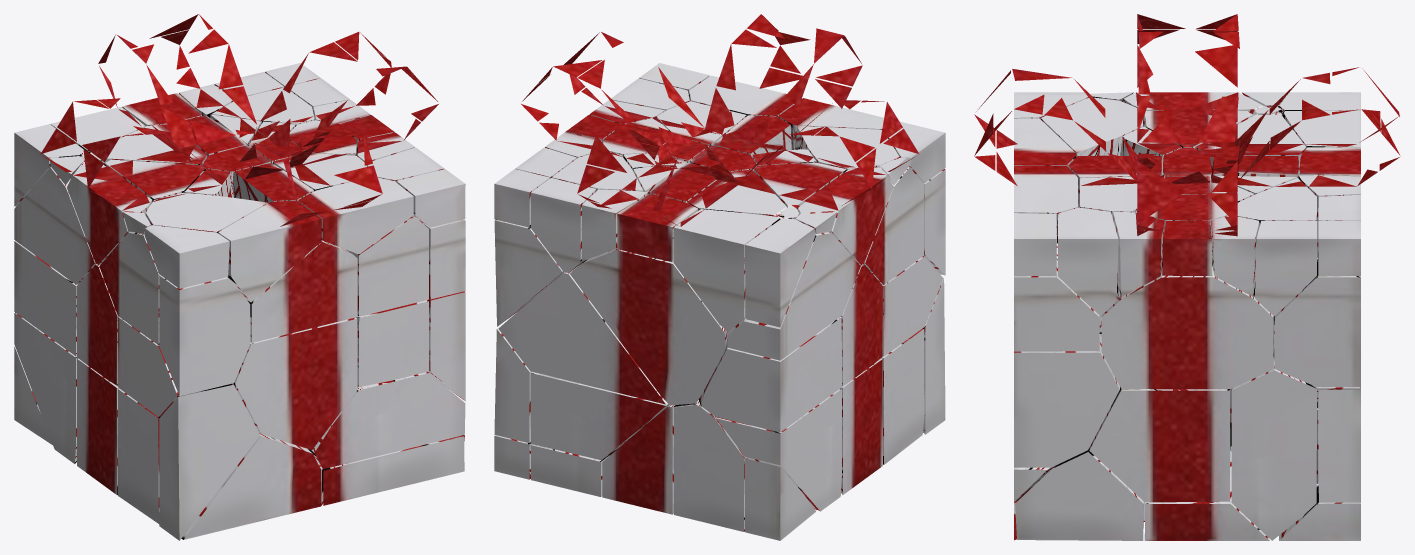
The model's file is giftcellbroken.fbx.
3 renders of one model, left to right at view 1: azimuth 30°, elevation 25°; view 2: azimuth 150°, elevation 25°; view 3: azimuth 270°, elevation 25°, orthographic. The views are drawn at different scales.
Parts seen in each view (by area): view 1: Gift_cell.037, Gift_cell.079, Gift_cell.045, Gift_cell.002, Gift_cell.083, Gift_cell.026, Gift_cell.033, Gift_cell.035, Gift_cell.071, Gift_cell.076, Gift_cell.065, Gift_cell.072 (+42 smaller); view 2: Gift_cell.030, Gift_cell.059, Gift_cell.050, Gift_cell.012, Gift_cell.038, Gift_cell.052, Gift_cell.071, Gift_cell.065, Gift_cell.054, Gift_cell.009, Gift_cell.056, Gift_cell.032 (+46 smaller); view 3: Gift_cell.018, Gift_cell.077, Gift_cell.075, Gift_cell.063, Gift_cell.047, Gift_cell.015, Gift_cell.064, Gift_cell.040, Gift_cell.060, Gift_cell.005, Gift_cell.023, Gift_cell.019 (+37 smaller).
Boxes of the visible parts, x1=… form: Gift_cell.037: x1=232, y1=317, x2=357, y2=449; Gift_cell.079: x1=159, y1=384, x2=260, y2=540; Gift_cell.045: x1=309, y1=372, x2=465, y2=468; Gift_cell.002: x1=159, y1=275, x2=250, y2=396; Gift_cell.083: x1=181, y1=432, x2=321, y2=539; Gift_cell.026: x1=247, y1=240, x2=357, y2=342; Gift_cell.033: x1=218, y1=200, x2=324, y2=302; Gift_cell.035: x1=346, y1=215, x2=428, y2=316; Gift_cell.071: x1=14, y1=156, x2=96, y2=284; Gift_cell.076: x1=298, y1=177, x2=413, y2=254; Gift_cell.065: x1=14, y1=312, x2=78, y2=463; Gift_cell.072: x1=323, y1=436, x2=464, y2=505; Gift_cell.030: x1=570, y1=248, x2=727, y2=405; Gift_cell.059: x1=498, y1=259, x2=667, y2=404; Gift_cell.050: x1=700, y1=317, x2=841, y2=432; Gift_cell.012: x1=530, y1=372, x2=669, y2=460; Gift_cell.038: x1=673, y1=398, x2=746, y2=531; Gift_cell.052: x1=673, y1=209, x2=780, y2=331; Gift_cell.071: x1=727, y1=218, x2=860, y2=360; Gift_cell.065: x1=715, y1=388, x2=841, y2=511; Gift_cell.054: x1=602, y1=405, x2=676, y2=514; Gift_cell.009: x1=745, y1=218, x2=815, y2=327; Gift_cell.056: x1=793, y1=167, x2=893, y2=265; Gift_cell.032: x1=881, y1=328, x2=924, y2=464; Gift_cell.018: x1=1101, y1=265, x2=1273, y2=389; Gift_cell.077: x1=1089, y1=387, x2=1230, y2=502; Gift_cell.075: x1=1231, y1=359, x2=1316, y2=540; Gift_cell.063: x1=1014, y1=334, x2=1119, y2=467; Gift_cell.047: x1=1015, y1=448, x2=1143, y2=540; Gift_cell.015: x1=1274, y1=259, x2=1360, y2=387; Gift_cell.064: x1=1014, y1=260, x2=1099, y2=351; Gift_cell.040: x1=1057, y1=207, x2=1118, y2=315; Gift_cell.060: x1=1318, y1=389, x2=1360, y2=502; Gift_cell.005: x1=1255, y1=220, x2=1317, y2=316; Gift_cell.023: x1=1144, y1=450, x2=1269, y2=540; Gift_cell.019: x1=1040, y1=97, x2=1142, y2=156.
Bounding box in the file's own units: 49.59 × 48.74 × 49.59.
1 material, 1 textured.
